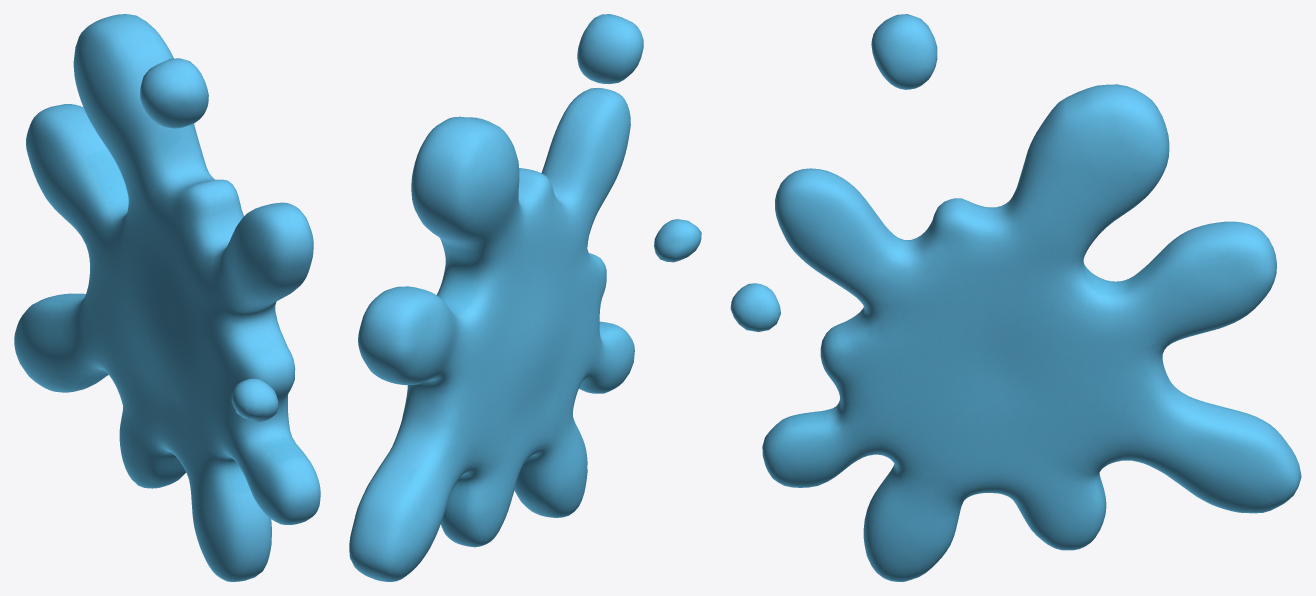
File: Bala.fbx
3 renders of one model, left to right at view 1: azimuth 30°, elevation 25°; view 2: azimuth 150°, elevation 25°; view 3: azimuth 270°, elevation 25°, orthographic. The views are drawn at different scales.
Visible parts, largest first — view 1: tripo_node_86de9cc5; view 2: tripo_node_86de9cc5; view 3: tripo_node_86de9cc5.
Part boxes in pixels (x1,y1,x2,y2): tripo_node_86de9cc5: (14, 14, 320, 581); tripo_node_86de9cc5: (349, 14, 701, 581); tripo_node_86de9cc5: (730, 14, 1301, 581).
Size of the model in its own units: 0.24 by 0.979 by 0.9546.
1 material, 1 textured.
